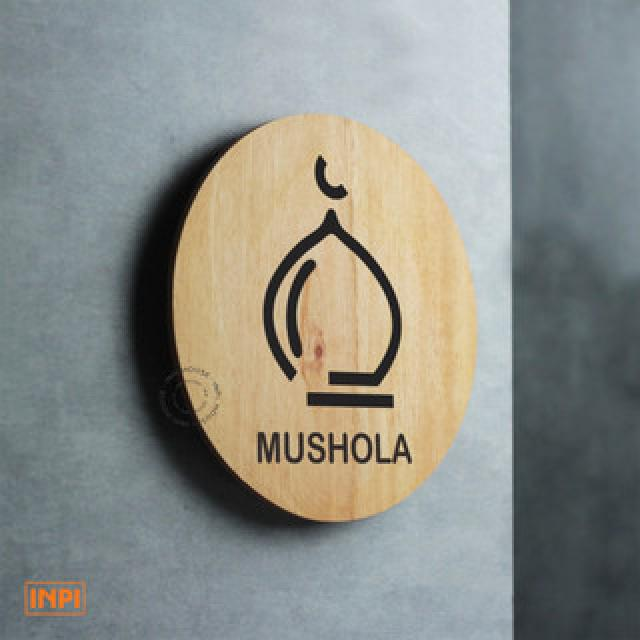surau_icon: (255, 143, 412, 416)
